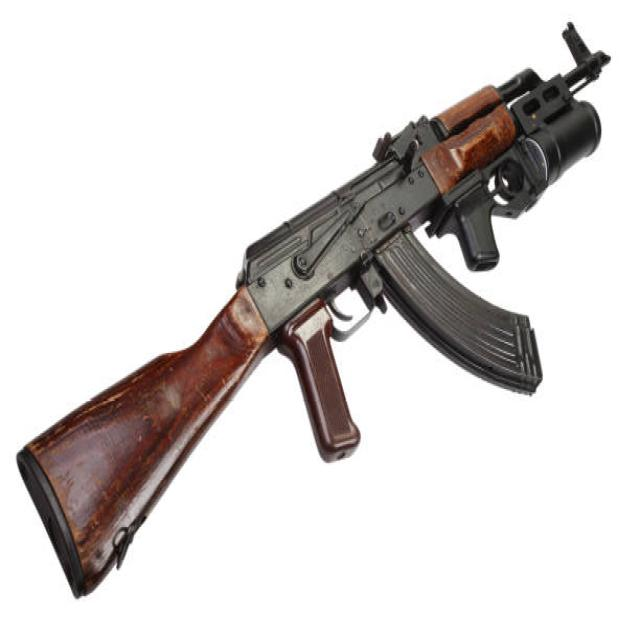rifle: (7, 10, 615, 618)
